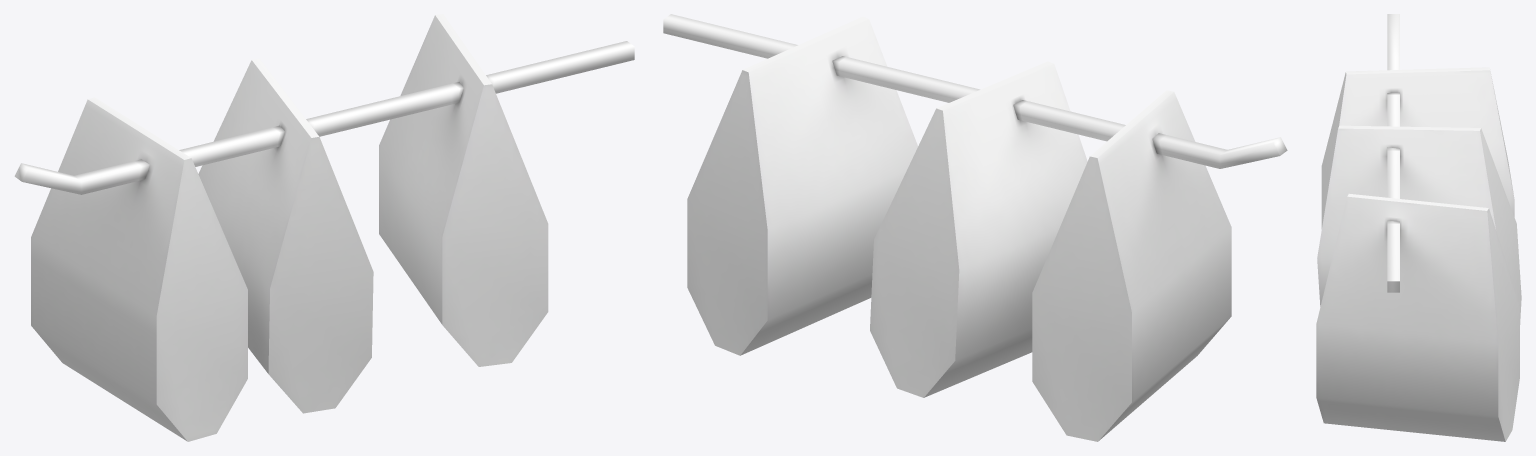
The model's file is Snack_bags.glb.
3 views of the same model, side by side, from view 1: azimuth 30°, elevation 25°; view 2: azimuth 150°, elevation 25°; view 3: azimuth 270°, elevation 25° (orthographic). The views are drawn at different scales.
Parts seen in each view (by area): view 1: Snack_bags_baked; view 2: Snack_bags_baked; view 3: Snack_bags_baked.
Boxes of the visible parts, left/top/right/bottom form: Snack_bags_baked: left=14, top=14, right=634, bottom=441; Snack_bags_baked: left=663, top=14, right=1287, bottom=441; Snack_bags_baked: left=1316, top=14, right=1521, bottom=441.
Bounding box in the file's own units: 0.5307 × 0.2327 × 0.1852.
Materials: 1 (1 with a texture image).
